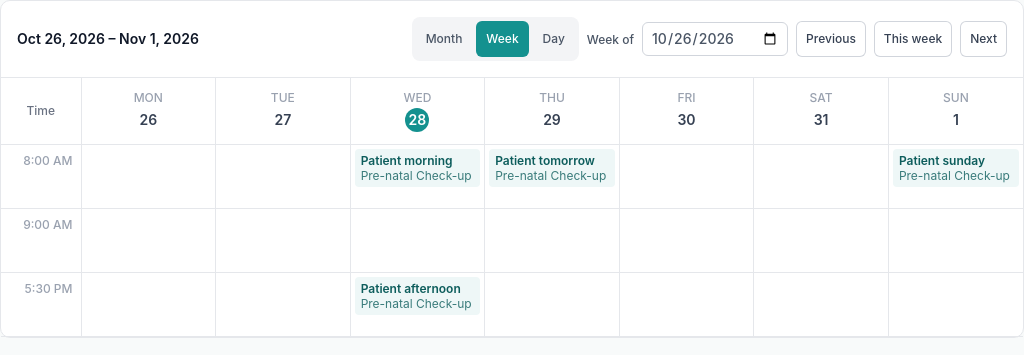
Test: appointment calendar views › navigates weeks and drills into their date headers
Click the button "Next".
click(984, 39)  # box [960,21,1007,57]
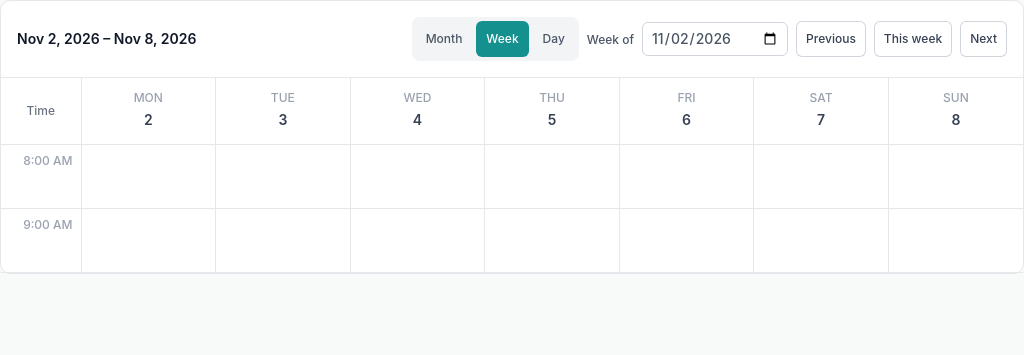
Now the date field labelled "Week of" holds "2026-11-02", box [642,22,788,56]
Click the button "Previous".
click(831, 39)  # box [796,21,866,57]
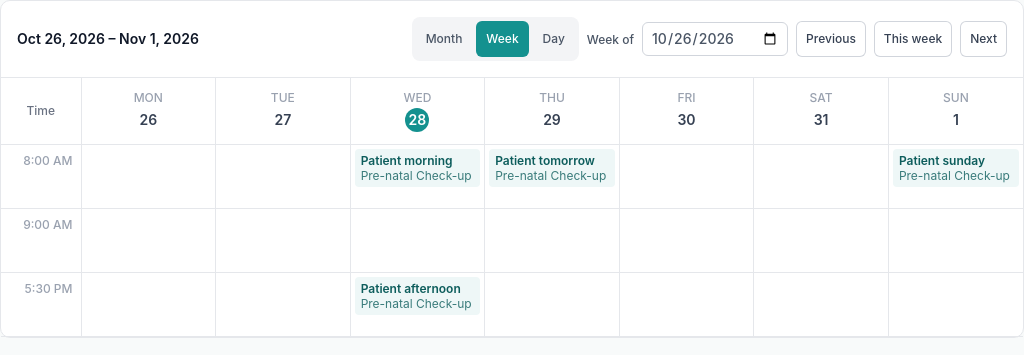
Now the date field labelled "Week of" holds "2026-10-26", box [642,22,788,56]
Click the button "Thu 29".
click(552, 111)  # box [527,86,577,136]
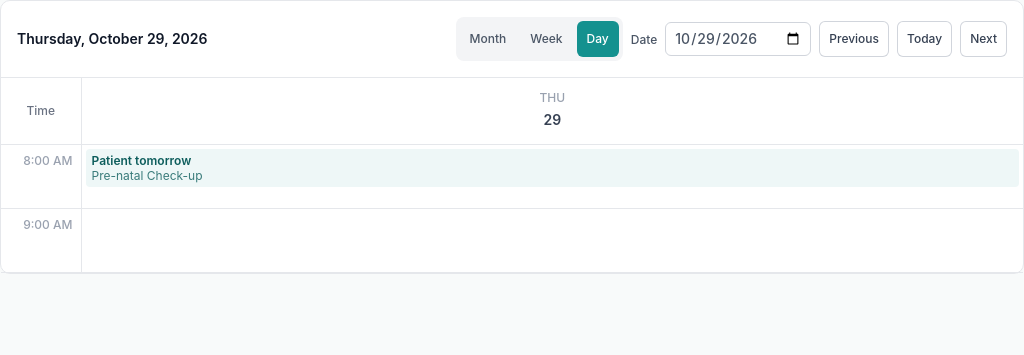
Now the date field labelled "Date" holds "2026-10-29", box [665,22,811,56]
Click the button "Week".
click(546, 39)  # box [520,21,573,57]
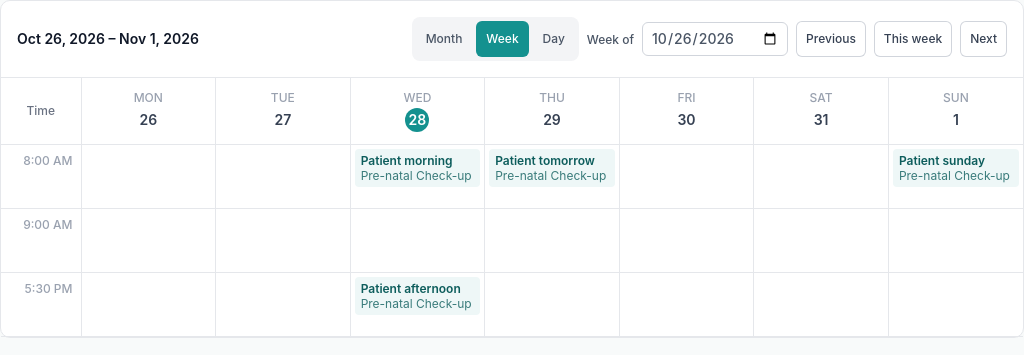
Now the date field labelled "Week of" holds "2026-10-26", box [642,22,788,56]
Click the button "Next".
click(984, 39)  # box [960,21,1007,57]
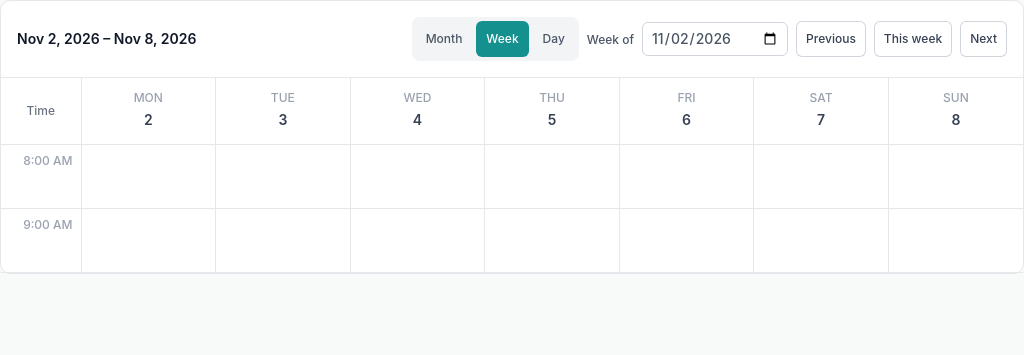
Click the button "This week".
click(913, 39)  # box [874,21,952,57]
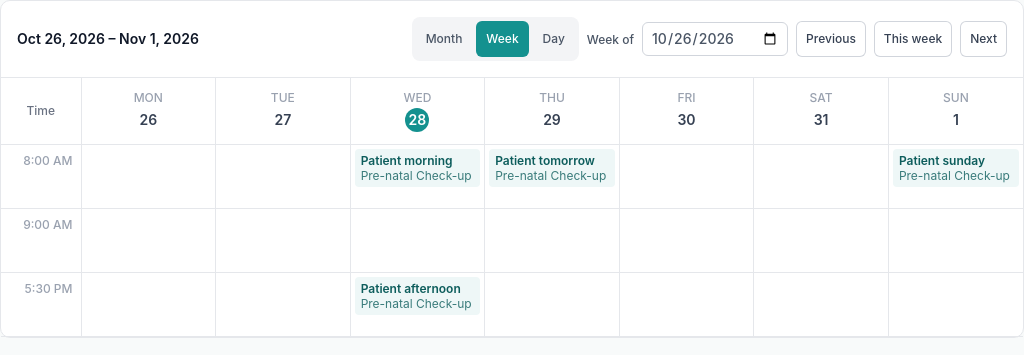
Now the date field labelled "Week of" holds "2026-10-26", box [642,22,788,56]
